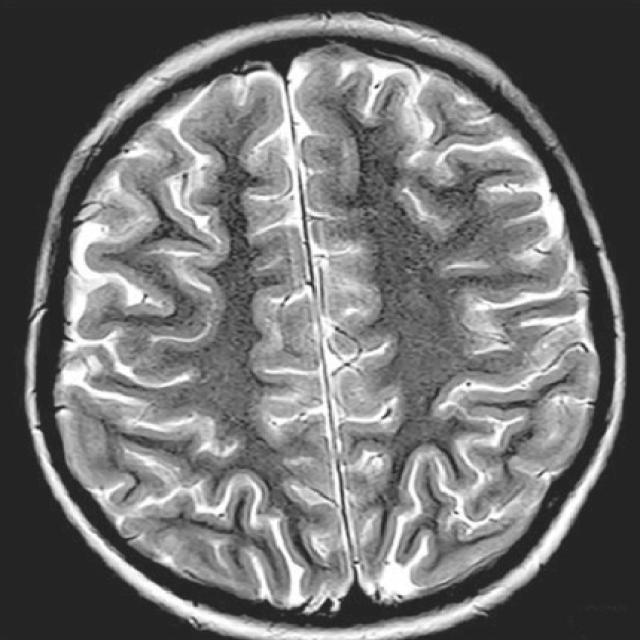No_Tumor: (25, 14, 624, 639)
